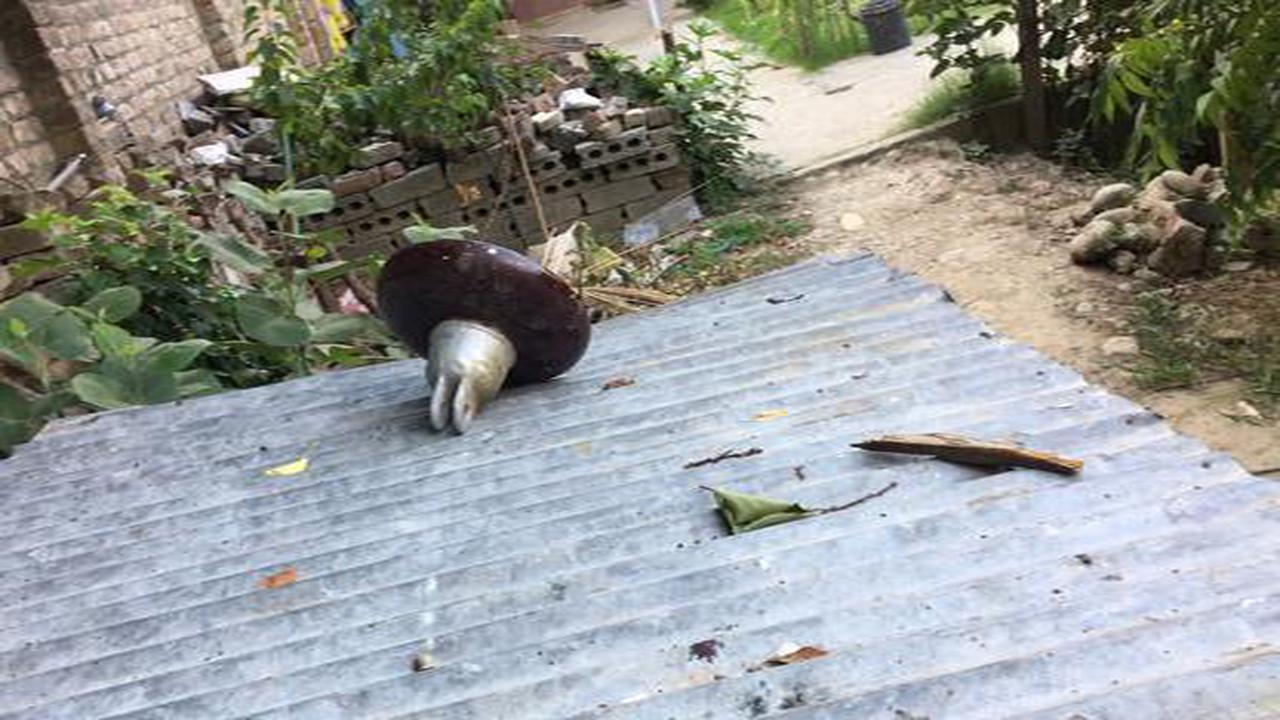insulator_disc: (375, 239, 597, 436)
